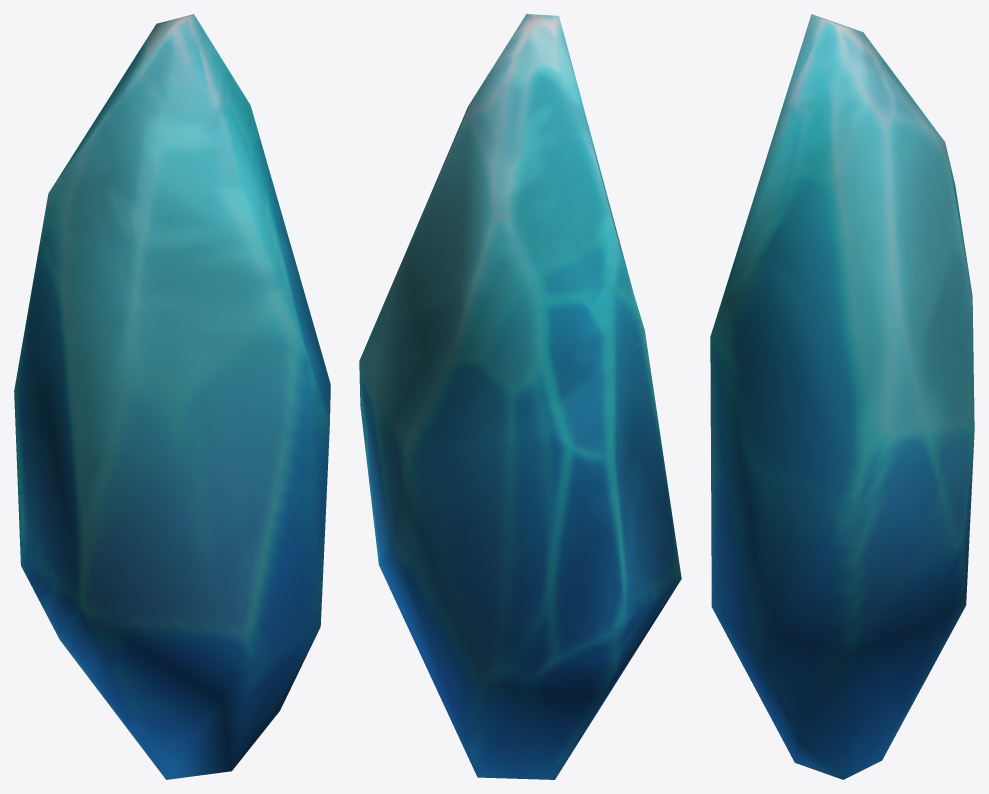
Rendered from SM_Gem_IceCrystal_Piece_001.fbx.
3 renders of one model, left to right at view 1: azimuth 30°, elevation 25°; view 2: azimuth 150°, elevation 25°; view 3: azimuth 270°, elevation 25°, orthographic. The views are drawn at different scales.
Parts seen in each view (by area): view 1: SM_Gem_IceCrystal_Piece_001; view 2: SM_Gem_IceCrystal_Piece_001; view 3: SM_Gem_IceCrystal_Piece_001.
Boxes of the visible parts, left/top/right/bottom form: SM_Gem_IceCrystal_Piece_001: left=14, top=14, right=330, bottom=779; SM_Gem_IceCrystal_Piece_001: left=359, top=14, right=681, bottom=779; SM_Gem_IceCrystal_Piece_001: left=710, top=14, right=974, bottom=779.
Size of the model in its own units: 9.63 by 24.34 by 7.89.
